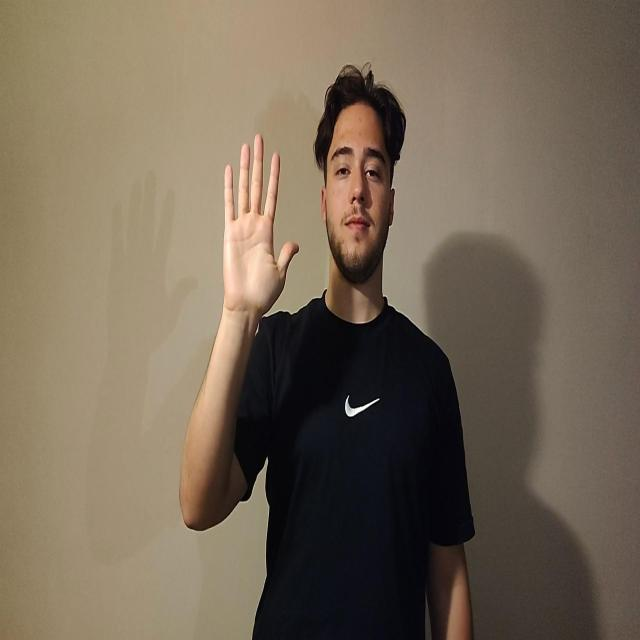hello: (222, 132, 299, 322)
